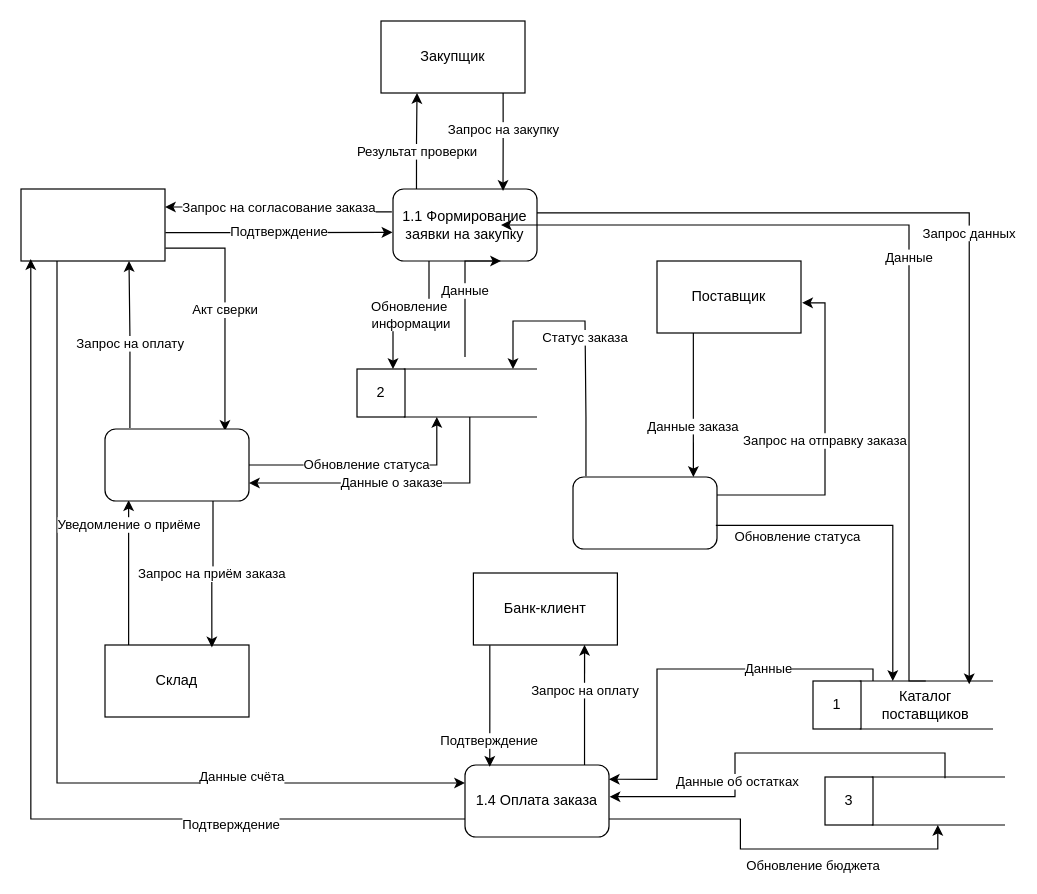
This 1037x894 diagram has some shape labels left out. Each missing label, with the box of its shape:
1.2 Обработка заказа: (572, 476, 717, 549)
1.3 приемка товара на склад: (104, 428, 249, 501)
База бюджета / счетов: (871, 776, 1004, 825)
База заказов: (403, 368, 536, 417)
Бухгалтерия: (20, 188, 165, 261)
